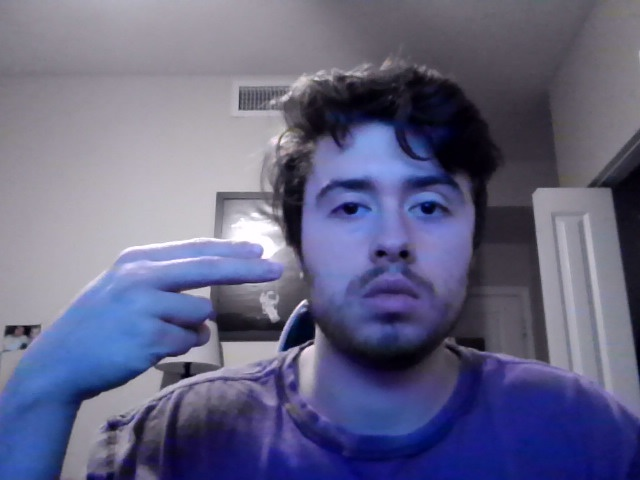h: (9, 237, 283, 402)
